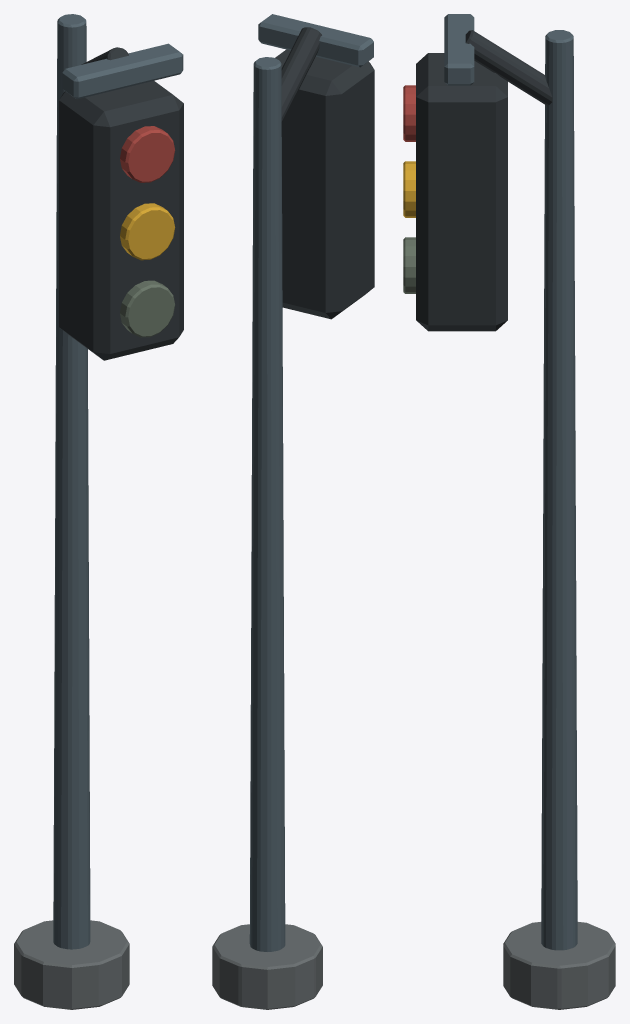
File: PRP_CITY_005_traffic_light.glb
3 views of the same model, side by side, from view 1: azimuth 30°, elevation 25°; view 2: azimuth 150°, elevation 25°; view 3: azimuth 270°, elevation 25° (orthographic). The views are drawn at different scales.
Visible parts, largest first — view 1: PRP_CITY_005_traffic_light_RenderMesh; view 2: PRP_CITY_005_traffic_light_RenderMesh; view 3: PRP_CITY_005_traffic_light_RenderMesh.
Boxes of the visible parts, left/top/right/bottom form: PRP_CITY_005_traffic_light_RenderMesh: left=14, top=14, right=183, bottom=1009; PRP_CITY_005_traffic_light_RenderMesh: left=212, top=14, right=374, bottom=1009; PRP_CITY_005_traffic_light_RenderMesh: left=403, top=14, right=615, bottom=1009.
Bounding box in the file's own units: 0.46 × 3.89 × 0.7854.
